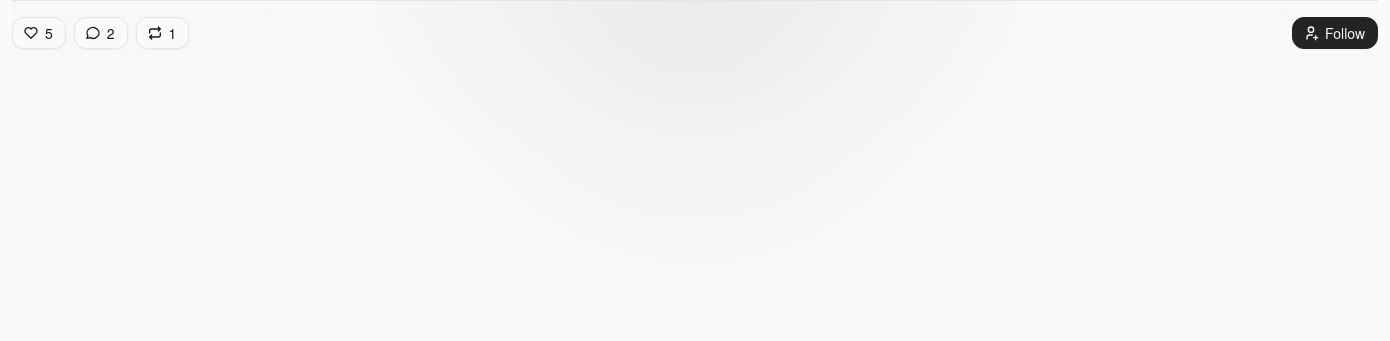
feed components › submits a new comment and optimistically bumps the comment count
The width and height of the screenshot is (1390, 341).
Click the button named "toggle comments".
click(101, 33)  # box [74,17,128,49]
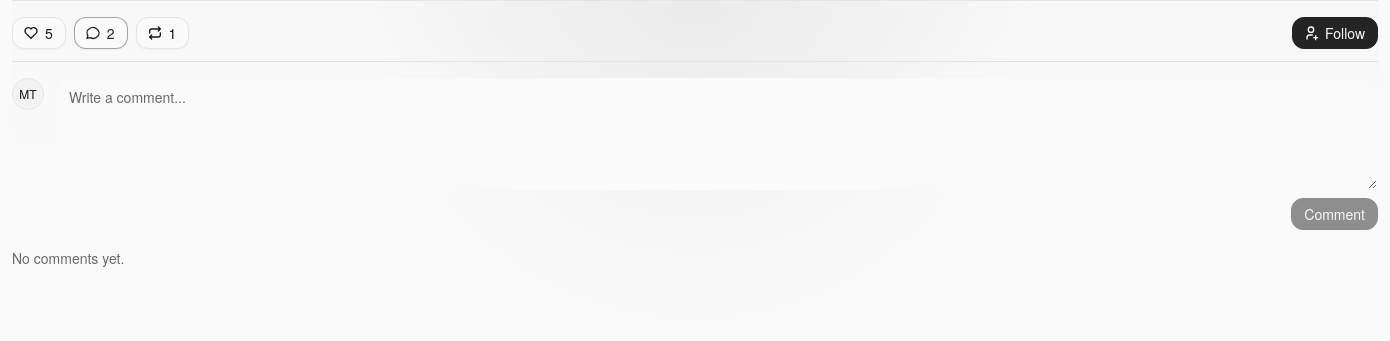
Type "Thanks for reading!" into the text box with placeholder "Write a comment...".
click(717, 134); type("Thanks for reading!")  # box [56,78,1378,190]
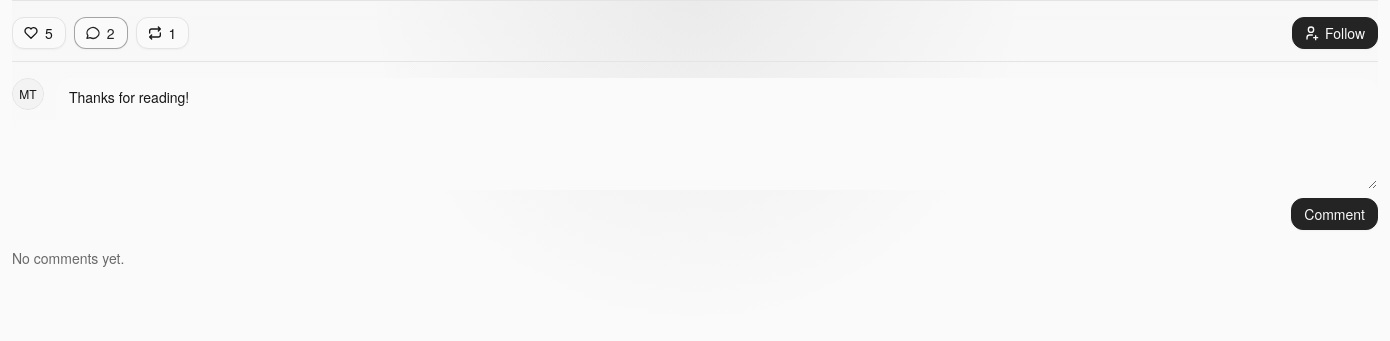
Click the button "Comment".
click(1335, 214)  # box [1291,198,1378,230]
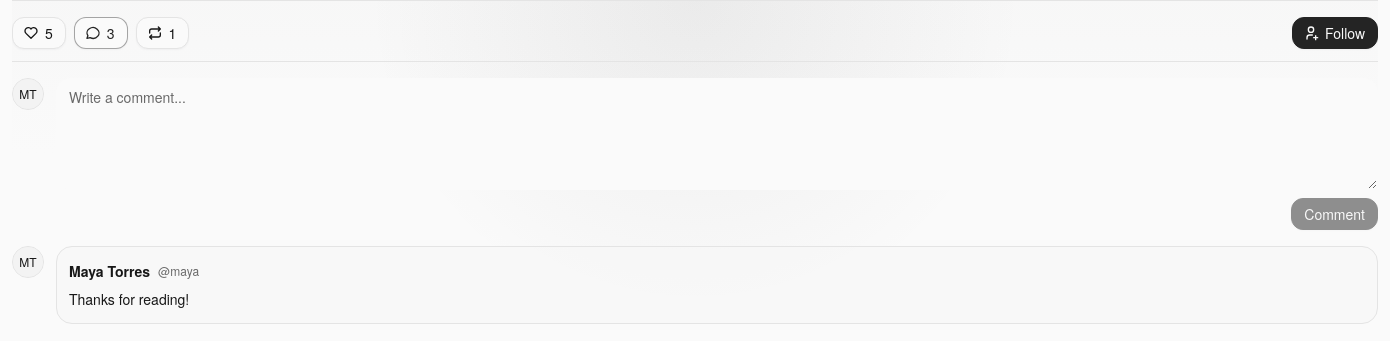
Expected: the text "Thanks for reading!" is shown, [69,289,189,309]
Expected: the button named "toggle comments" reads "3", [74,17,128,49]
